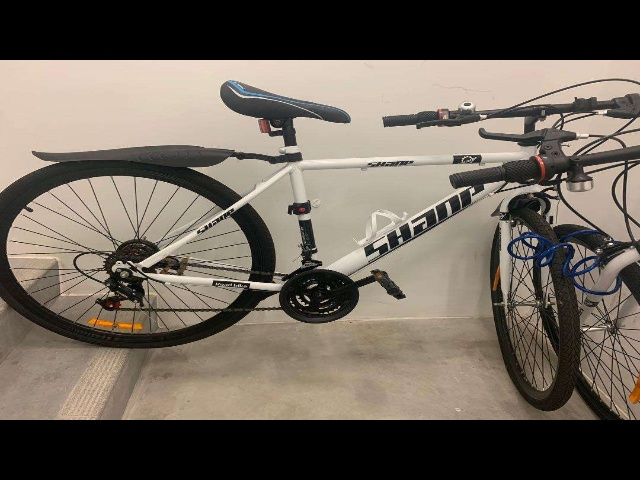bike: (20, 79, 612, 413)
